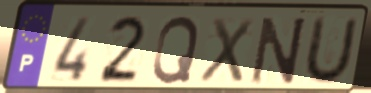2: (98, 14, 149, 86)
4: (50, 15, 90, 84)
N: (248, 15, 309, 86)
Q: (149, 14, 202, 86)
U: (299, 14, 361, 88)
X: (196, 15, 256, 85)
